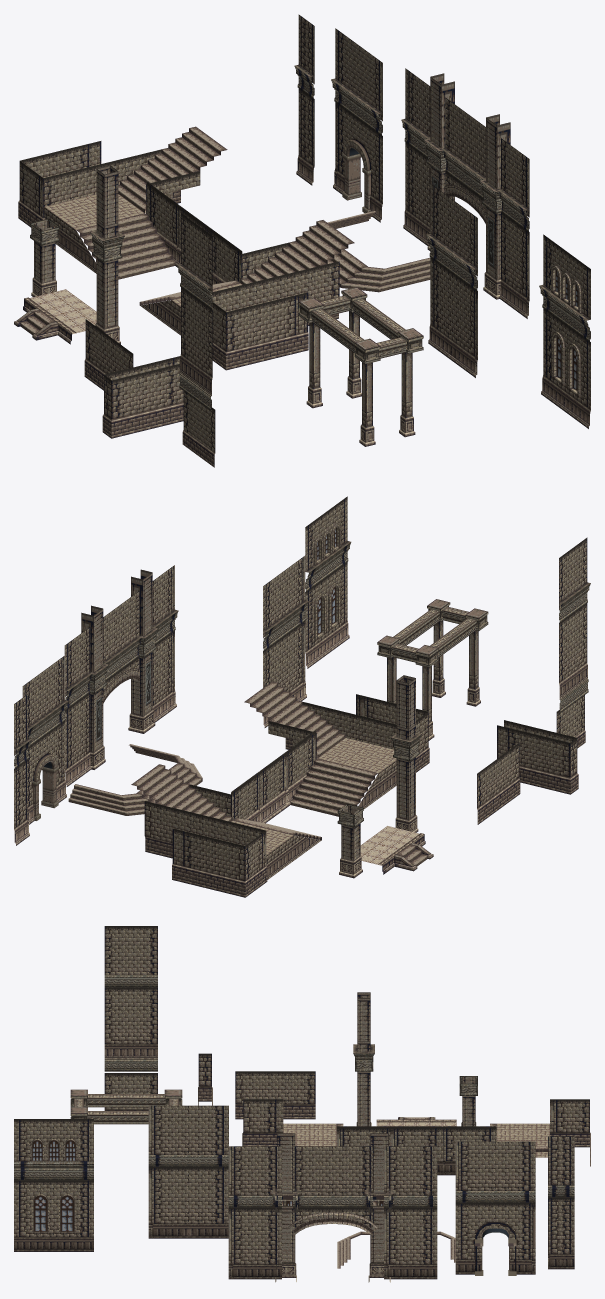
Rendered from ObjMD_Plain_Catsle_Stairs_A.FBX.
3 renders of one model, top to bottom at view 1: azimuth 30°, elevation 25°; view 2: azimuth 150°, elevation 25°; view 3: azimuth 270°, elevation 25°, orthographic. The views are drawn at different scales.
Visible parts, largest first — view 1: ObjMD_Plain_Catsle_Stairs_A, ObjMD_Plain_Catsle_Wall_Arch_2F_A, ObjMD_Plain_Catsle_Tengai_A, ObjMD_Plain_Catsle_Wall_A, ObjMD_Plain_Catsle_Wall_Window_A, ObjMD_Plain_Catsle_Wall_Enter_A, ObjMD_Plain_Catsle_Wall_B, ObjMD_Plain_Catsle_Wall_1F_B, ObjMD_Plain_Catsle_Pillar_A, ObjMD_Plain_Catsle_Stairs_B, ObjMD_Plain_Catsle_Kyoudan, ObjMD_Plain_Catsle_Wall_E (+2 smaller); view 2: ObjMD_Plain_Catsle_Stairs_A, ObjMD_Plain_Catsle_Wall_Arch_2F_A, ObjMD_Plain_Catsle_Wall_Window_A, ObjMD_Plain_Catsle_Tengai_A, ObjMD_Plain_Catsle_Wall_B, ObjMD_Plain_Catsle_Wall_Enter_A, ObjMD_Plain_Catsle_Wall_A, ObjMD_Plain_Catsle_Wall_1F_B, ObjMD_Plain_Catsle_Pillar_A, ObjMD_Plain_Catsle_Stairs_B, ObjMD_Plain_Catsle_Kyoudan, ObjMD_Plain_Catsle_Wall_1F_A (+2 smaller); view 3: ObjMD_Plain_Catsle_Wall_Arch_2F_A, ObjMD_Plain_Catsle_Wall_A, ObjMD_Plain_Catsle_Wall_Window_A, ObjMD_Plain_Catsle_Wall_Enter_A, ObjMD_Plain_Catsle_Stairs_A, ObjMD_Plain_Catsle_Wall_B, ObjMD_Plain_Catsle_Wall_E, ObjMD_Plain_Catsle_Wall_1F_A, ObjMD_Plain_Catsle_Tengai_A, ObjMD_Plain_Catsle_Pillar_A, ObjMD_Plain_Catsle_Pillar_B, ObjMD_Plain_Catsle_Kyoudan (+2 smaller).
Boxes of the visible parts, box(x1,y1,x2,y2) form: ObjMD_Plain_Catsle_Stairs_A: box(18, 126, 354, 370); ObjMD_Plain_Catsle_Wall_Arch_2F_A: box(401, 68, 529, 318); ObjMD_Plain_Catsle_Tengai_A: box(298, 287, 423, 446); ObjMD_Plain_Catsle_Wall_A: box(426, 183, 477, 377); ObjMD_Plain_Catsle_Wall_Window_A: box(539, 234, 590, 428); ObjMD_Plain_Catsle_Wall_Enter_A: box(331, 28, 382, 222); ObjMD_Plain_Catsle_Wall_B: box(177, 213, 215, 467); ObjMD_Plain_Catsle_Wall_1F_B: box(102, 356, 183, 438); ObjMD_Plain_Catsle_Pillar_A: box(90, 165, 124, 344); ObjMD_Plain_Catsle_Stairs_B: box(302, 211, 430, 292); ObjMD_Plain_Catsle_Kyoudan: box(14, 289, 96, 344); ObjMD_Plain_Catsle_Wall_E: box(294, 14, 314, 185); ObjMD_Plain_Catsle_Stairs_A: box(131, 681, 429, 897); ObjMD_Plain_Catsle_Wall_Arch_2F_A: box(64, 565, 178, 786); ObjMD_Plain_Catsle_Wall_Window_A: box(305, 496, 351, 668); ObjMD_Plain_Catsle_Tengai_A: box(377, 599, 488, 740); ObjMD_Plain_Catsle_Wall_B: box(556, 537, 590, 748); ObjMD_Plain_Catsle_Wall_Enter_A: box(22, 655, 68, 824); ObjMD_Plain_Catsle_Wall_A: box(263, 555, 308, 727); ObjMD_Plain_Catsle_Wall_1F_B: box(497, 720, 578, 794); ObjMD_Plain_Catsle_Pillar_A: box(391, 675, 421, 832); ObjMD_Plain_Catsle_Stairs_B: box(68, 744, 202, 815); ObjMD_Plain_Catsle_Kyoudan: box(360, 826, 433, 874); ObjMD_Plain_Catsle_Wall_1F_A: box(477, 743, 520, 824); ObjMD_Plain_Catsle_Wall_Arch_2F_A: box(228, 1133, 437, 1282); ObjMD_Plain_Catsle_Wall_A: box(148, 1105, 228, 1238); ObjMD_Plain_Catsle_Wall_Window_A: box(14, 1119, 93, 1251); ObjMD_Plain_Catsle_Wall_Enter_A: box(455, 1141, 535, 1275); ObjMD_Plain_Catsle_Stairs_A: box(242, 1099, 590, 1175); ObjMD_Plain_Catsle_Wall_B: box(104, 926, 157, 1110); ObjMD_Plain_Catsle_Wall_E: box(548, 1136, 574, 1269); ObjMD_Plain_Catsle_Wall_1F_A: box(235, 1071, 315, 1119); ObjMD_Plain_Catsle_Tengai_A: box(70, 1089, 182, 1124); ObjMD_Plain_Catsle_Pillar_A: box(353, 992, 374, 1126); ObjMD_Plain_Catsle_Pillar_B: box(459, 1076, 477, 1126); ObjMD_Plain_Catsle_Kyoudan: box(376, 1117, 456, 1126).
Size of the model in its own units: 3271 by 1606 by 4324.
